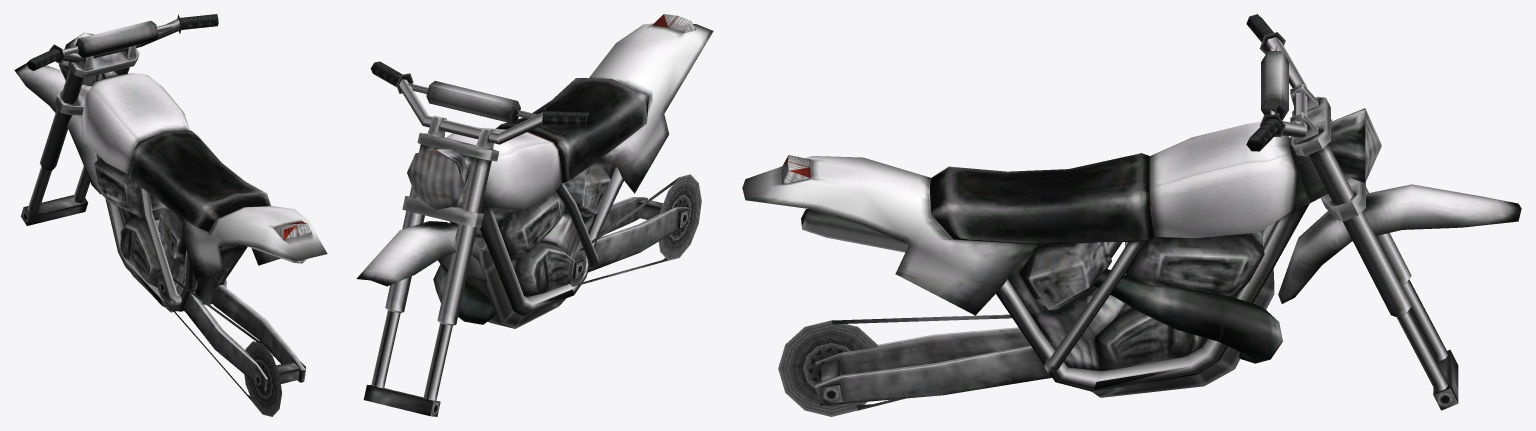
File: Sanchez.fbx
3 renders of one model, left to right at view 1: azimuth 30°, elevation 25°; view 2: azimuth 150°, elevation 25°; view 3: azimuth 270°, elevation 25°, orthographic. The views are drawn at different scales.
Visible parts, largest first — view 1: chassis_hi, forks_rear, forks_front, handlebars, mudguard; view 2: chassis_hi, forks_front, forks_rear, handlebars, mudguard; view 3: chassis_hi, forks_front, forks_rear, handlebars, mudguard.
Boxes of the visible parts, x1=… form: chassis_hi: x1=81, y1=71, x2=327, y2=312; forks_rear: x1=157, y1=271, x2=305, y2=416; forks_front: x1=14, y1=32, x2=139, y2=194; handlebars: x1=27, y1=14, x2=218, y2=70; mudguard: x1=20, y1=166, x2=90, y2=225; chassis_hi: x1=433, y1=14, x2=713, y2=328; forks_front: x1=356, y1=133, x2=499, y2=325; forks_rear: x1=570, y1=174, x2=701, y2=286; handlebars: x1=370, y1=61, x2=589, y2=149; mudguard: x1=363, y1=310, x2=452, y2=416; chassis_hi: x1=742, y1=121, x2=1327, y2=397; forks_front: x1=1278, y1=96, x2=1521, y2=316; forks_rear: x1=778, y1=314, x2=1052, y2=416; handlebars: x1=1246, y1=14, x2=1318, y2=151; mudguard: x1=1396, y1=279, x2=1458, y2=410.
Size of the model in its own units: 79.54 by 105 by 208.
4 materials, 4 textured.
